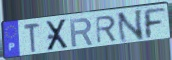F: (141, 7, 168, 40)
N: (116, 8, 145, 44)
R: (69, 17, 95, 49), (94, 14, 118, 45)
T: (22, 22, 42, 54)
X: (46, 18, 70, 53)
